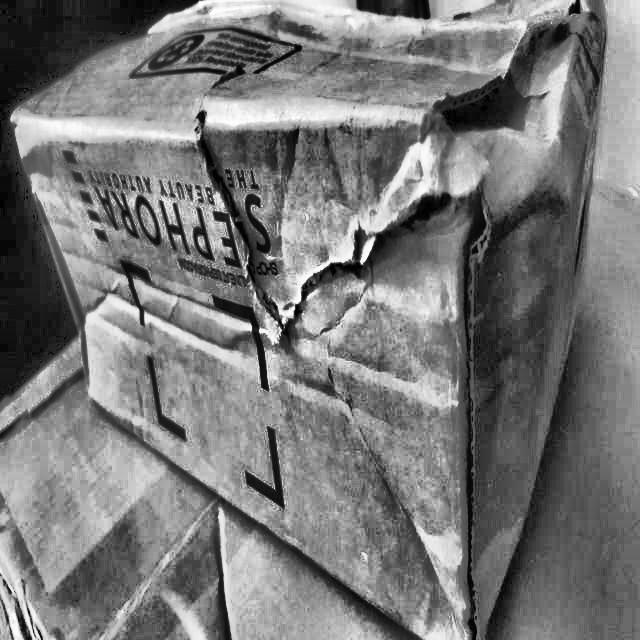box: (0, 0, 615, 639)
hole: (199, 138, 459, 336), (414, 81, 551, 135)
